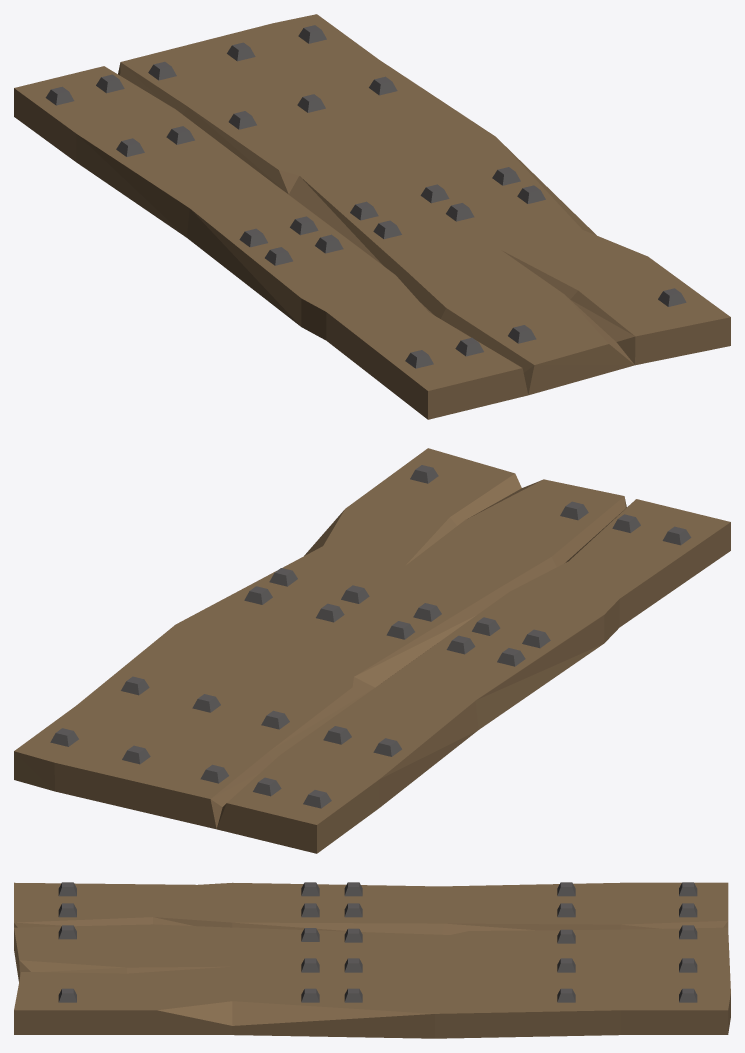
The model's file is SM_Prop_WoodPlank_01.glb.
3 renders of one model, top to bottom at view 1: azimuth 30°, elevation 25°; view 2: azimuth 150°, elevation 25°; view 3: azimuth 270°, elevation 25°, orthographic. The views are drawn at different scales.
Parts seen in each view (by area): view 1: SM_Prop_WoodPlank_01_part00; view 2: SM_Prop_WoodPlank_01_part00; view 3: SM_Prop_WoodPlank_01_part00.
Boxes of the visible parts, x1,y1,x2,y2 form: SM_Prop_WoodPlank_01_part00: [14, 14, 730, 419]; SM_Prop_WoodPlank_01_part00: [14, 448, 730, 853]; SM_Prop_WoodPlank_01_part00: [14, 882, 730, 1038].
Size of the model in its own units: 2.07 by 0.239 by 4.77.
1 material, 1 textured.
